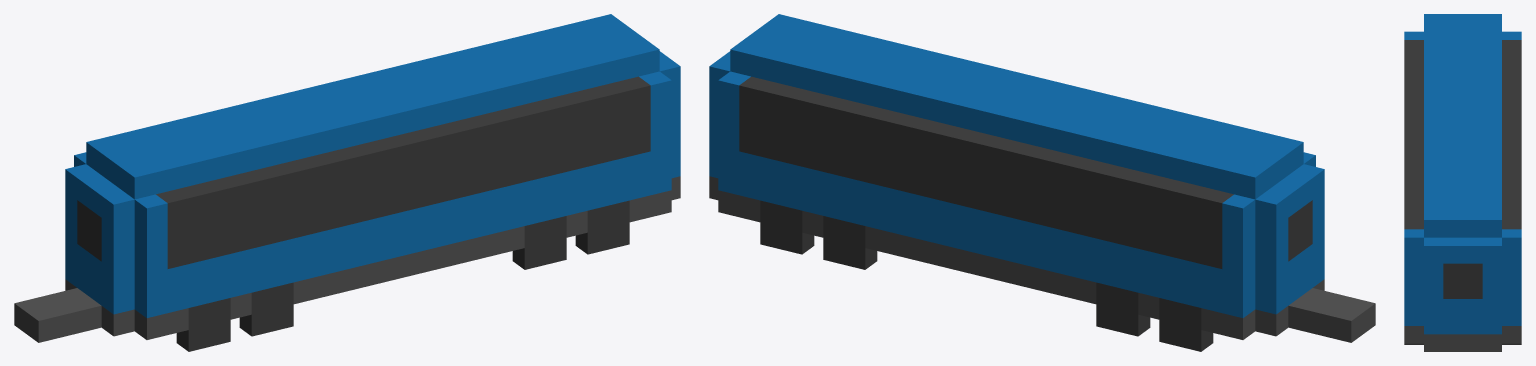
Rendered from train-trailer-v1-blue.gltf.
3 views of the same model, side by side, from view 1: azimuth 30°, elevation 25°; view 2: azimuth 150°, elevation 25°; view 3: azimuth 270°, elevation 25° (orthographic). The views are drawn at different scales.
Visible parts, largest first — view 1: model, wheels; view 2: model, wheels; view 3: model.
Part boxes in pixels (left/top/right/bottom): model: left=14, top=14, right=680, bottom=342; wheels: left=176, top=200, right=629, bottom=351; model: left=709, top=14, right=1375, bottom=342; wheels: left=760, top=200, right=1213, bottom=351; model: left=1404, top=14, right=1521, bottom=351.
Bounding box in the file's own units: 3 × 0.8 × 0.6.
2 materials, 2 textured.
